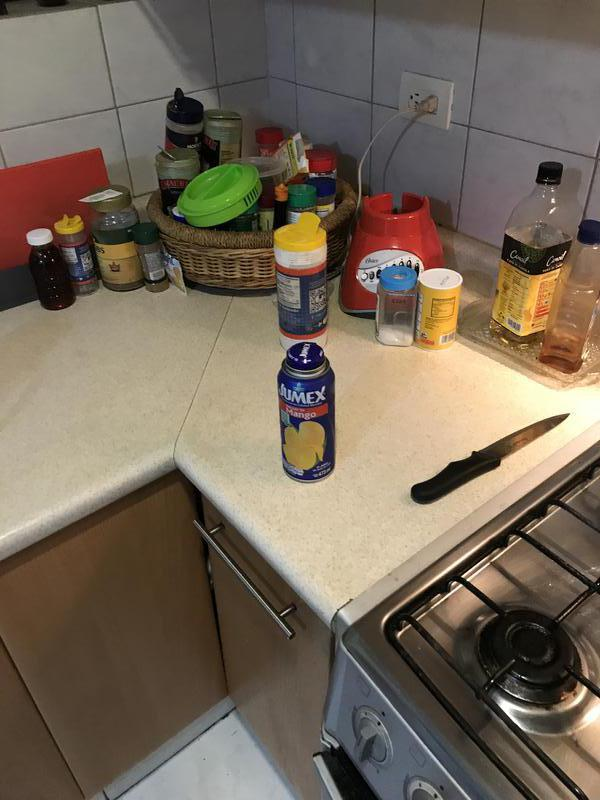jugo_jumex: (274, 340, 341, 483)
